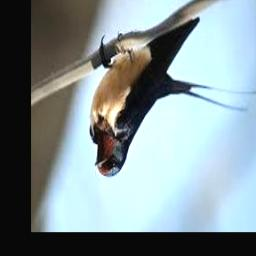Swallow: (90, 17, 256, 178)
